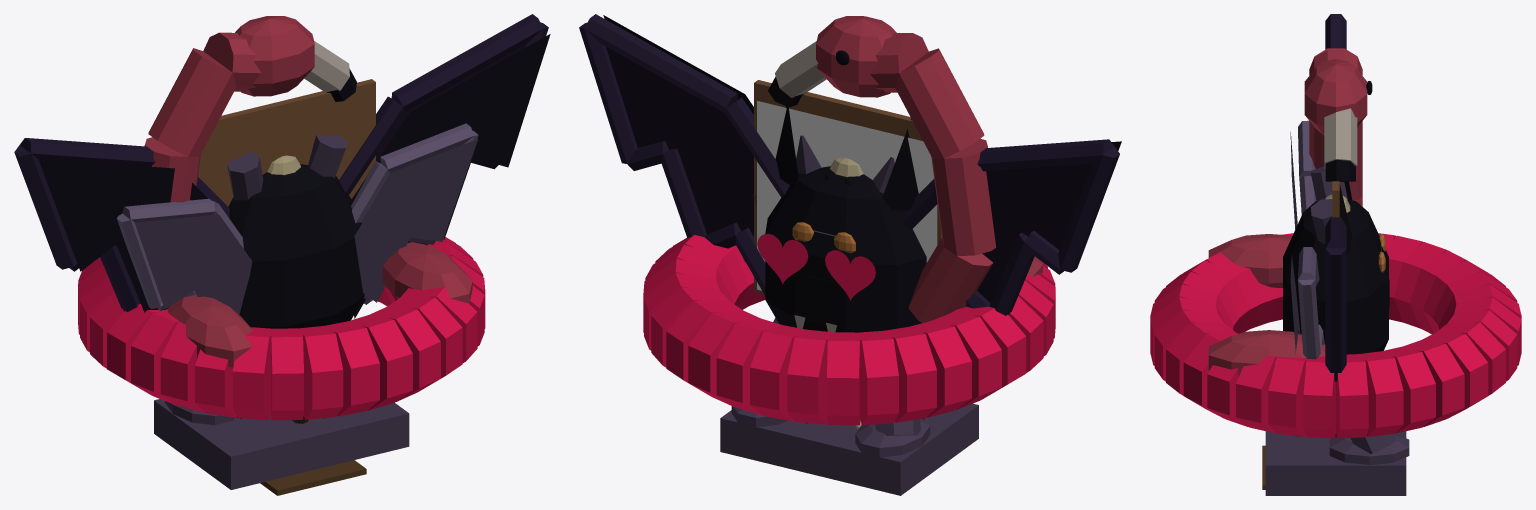
Rendered from NyxManorTargets.fbx.
3 views of the same model, side by side, from view 1: azimuth 30°, elevation 25°; view 2: azimuth 150°, elevation 25°; view 3: azimuth 270°, elevation 25° (orthographic). The views are drawn at different scales.
Parts seen in each view (by area): view 1: Flamingo, GiantBat, Gargoyle, Cardboard; view 2: Flamingo, GiantBat, Gargoyle, Portrait, Cardboard, Skeleton; view 3: Flamingo, Gargoyle, GiantBat, Cardboard.
Boxes of the visible parts, x1=… form: Flamingo: x1=78, y1=16, x2=485, y2=420; GiantBat: x1=14, y1=14, x2=550, y2=328; Gargoyle: x1=116, y1=123, x2=478, y2=489; Cardboard: x1=198, y1=79, x2=375, y2=495; Flamingo: x1=643, y1=16, x2=1055, y2=425; GiantBat: x1=579, y1=14, x2=1121, y2=332; Gargoyle: x1=720, y1=135, x2=978, y2=495; Portrait: x1=757, y1=101, x2=937, y2=290; Cardboard: x1=754, y1=80, x2=941, y2=419; Skeleton: x1=824, y1=158, x2=863, y2=429; Flamingo: x1=1150, y1=48, x2=1521, y2=438; Gargoyle: x1=1265, y1=120, x2=1409, y2=495; GiantBat: x1=1283, y1=14, x2=1388, y2=381; Cardboard: x1=1262, y1=181, x2=1339, y2=489.
Size of the model in its own units: 4.15 by 3.31 by 2.77.
